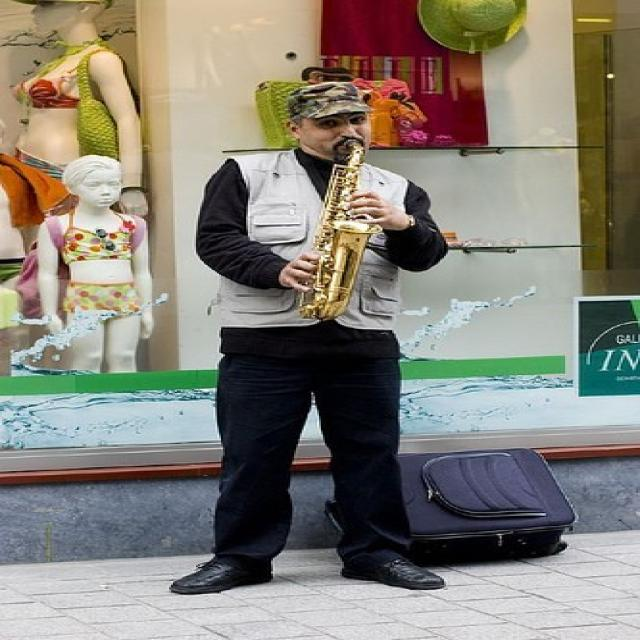saxophone: (284, 134, 380, 323)
